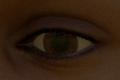eye: (44, 32, 77, 54)
